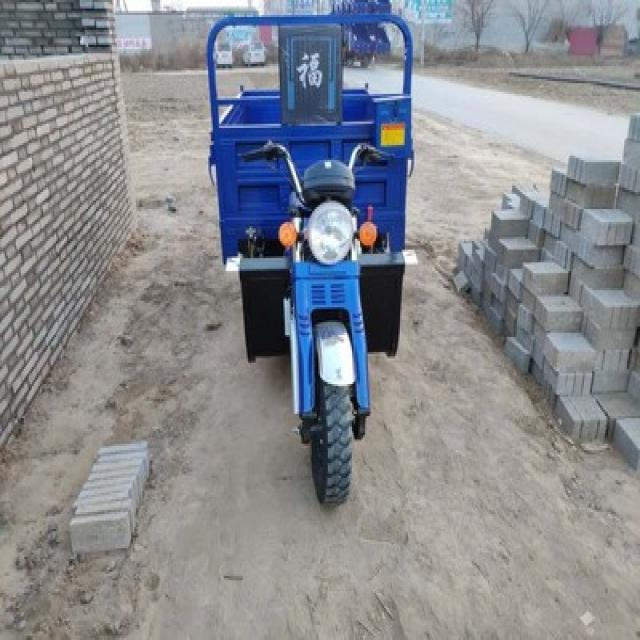car: (240, 36, 266, 66), (211, 36, 232, 68)
tricycle: (203, 11, 418, 501)
